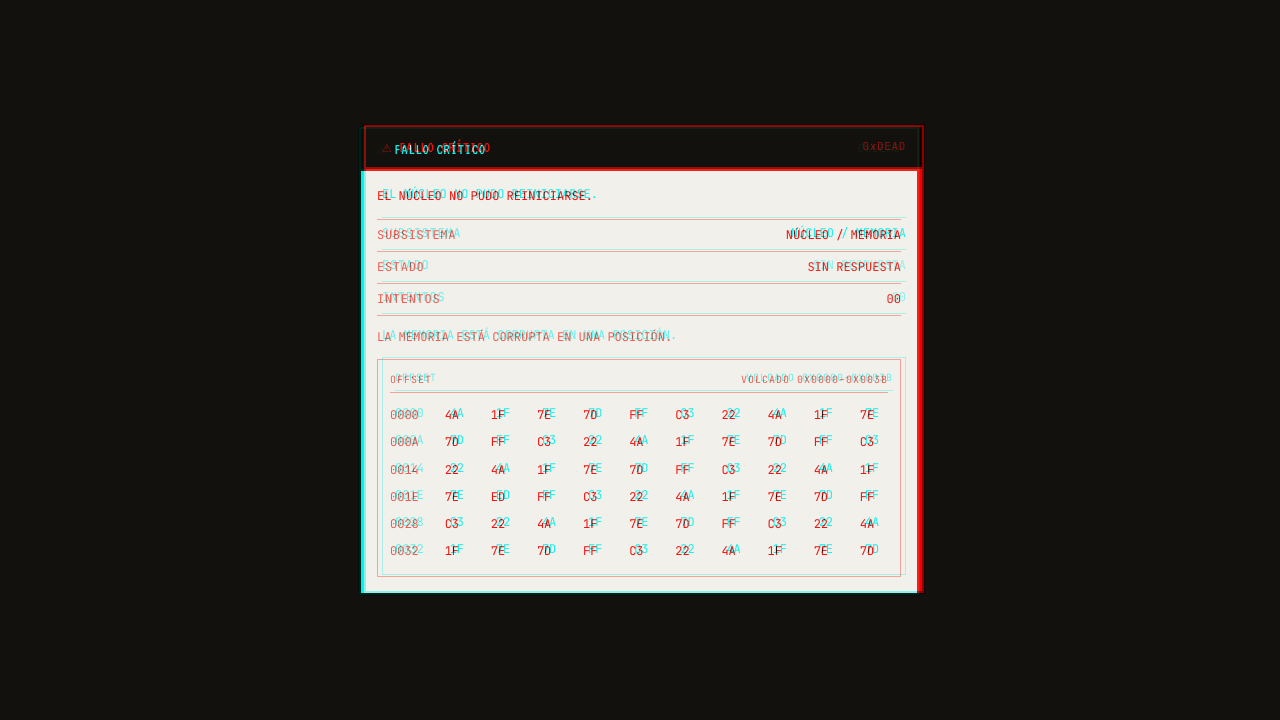
Test: SystemLockout · resolverlo › errar no lo levanta, y lo dice
Click the 1st button "4A": (453, 415) top-left (432, 402), bottom-right (474, 428)
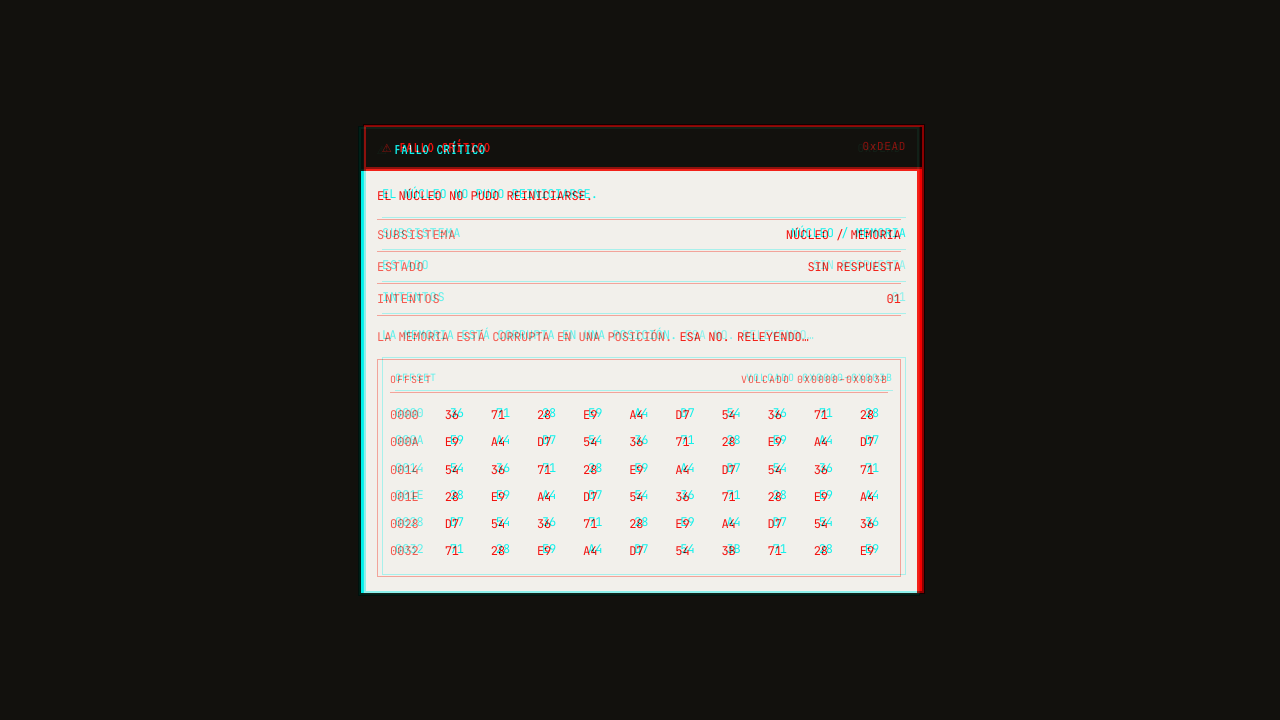
Result: the text "ESA NO. RELEYENDO…" is shown at top-left (673, 328), bottom-right (810, 344)
